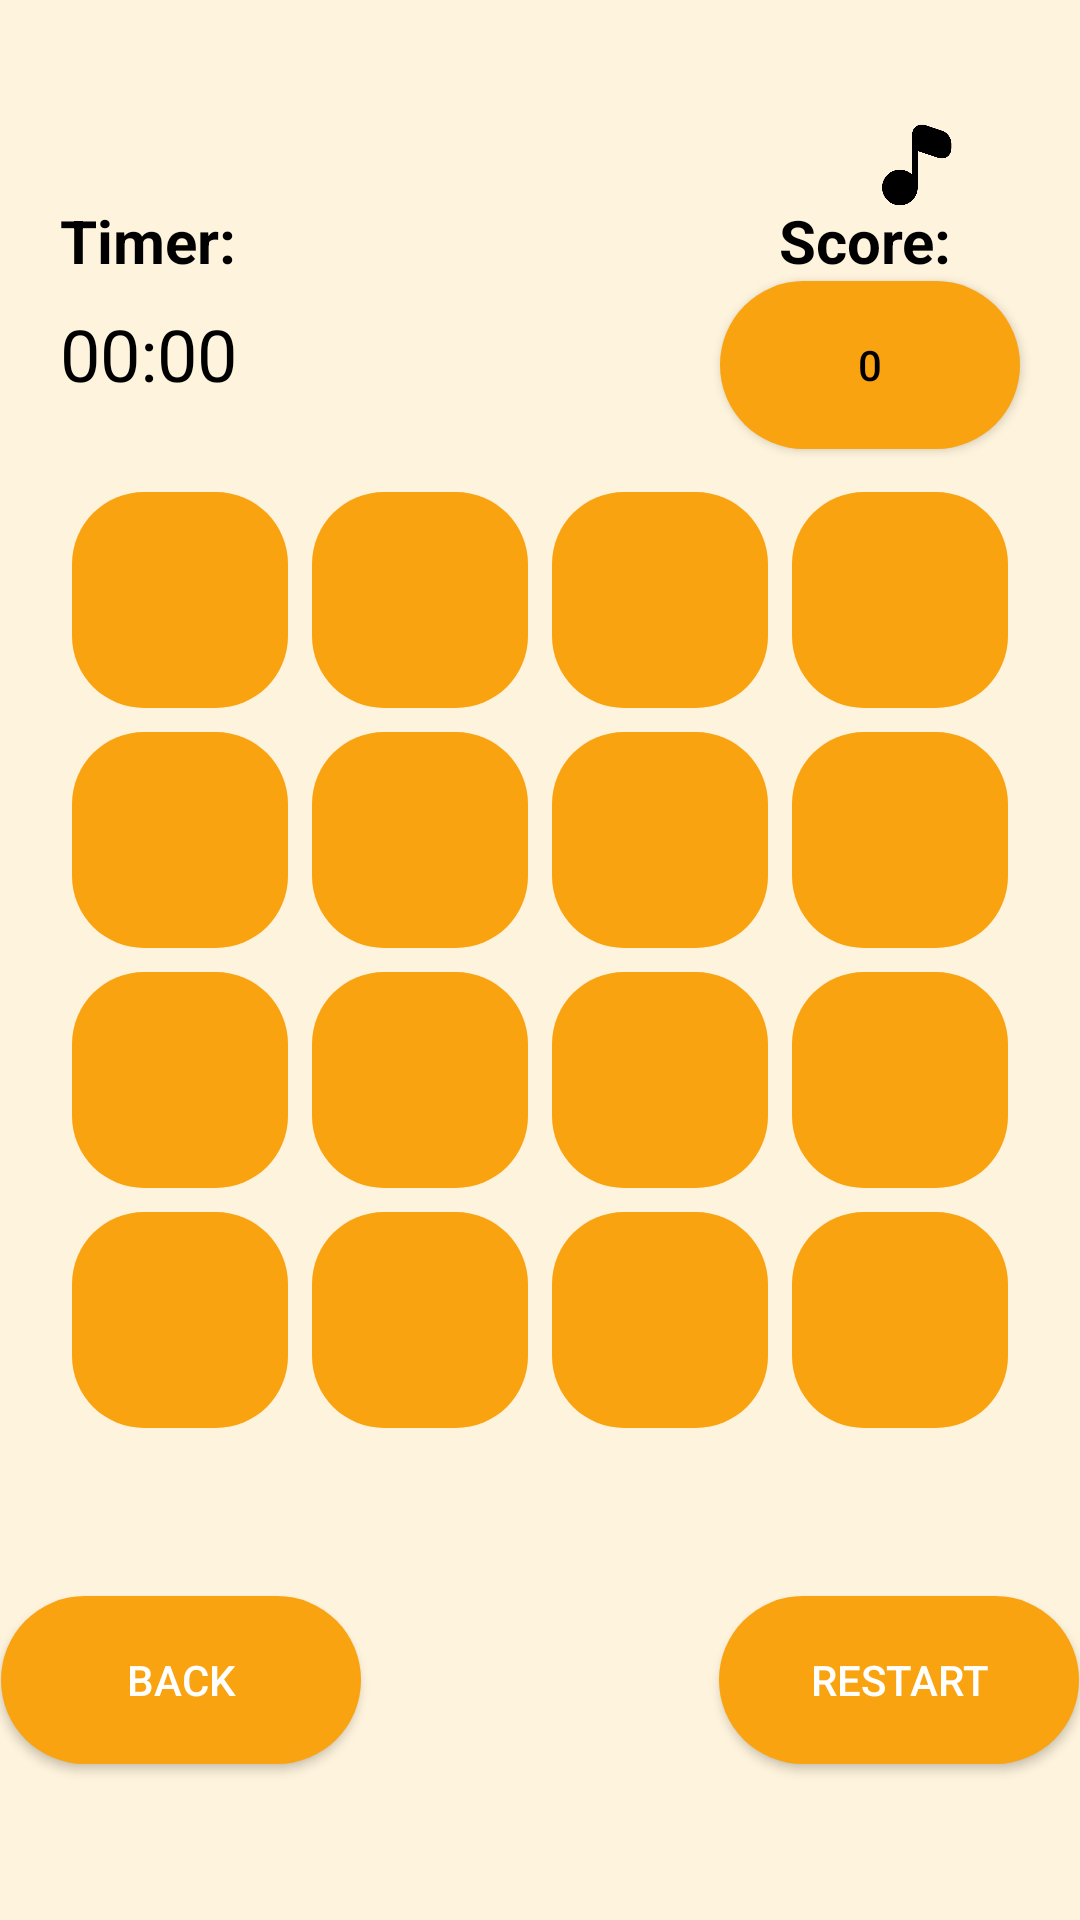

Named icons in this screenshot (1080px×1920px) and their bounding boxes, (x1, y1, x2, y2):
music: (882, 125, 952, 205)
